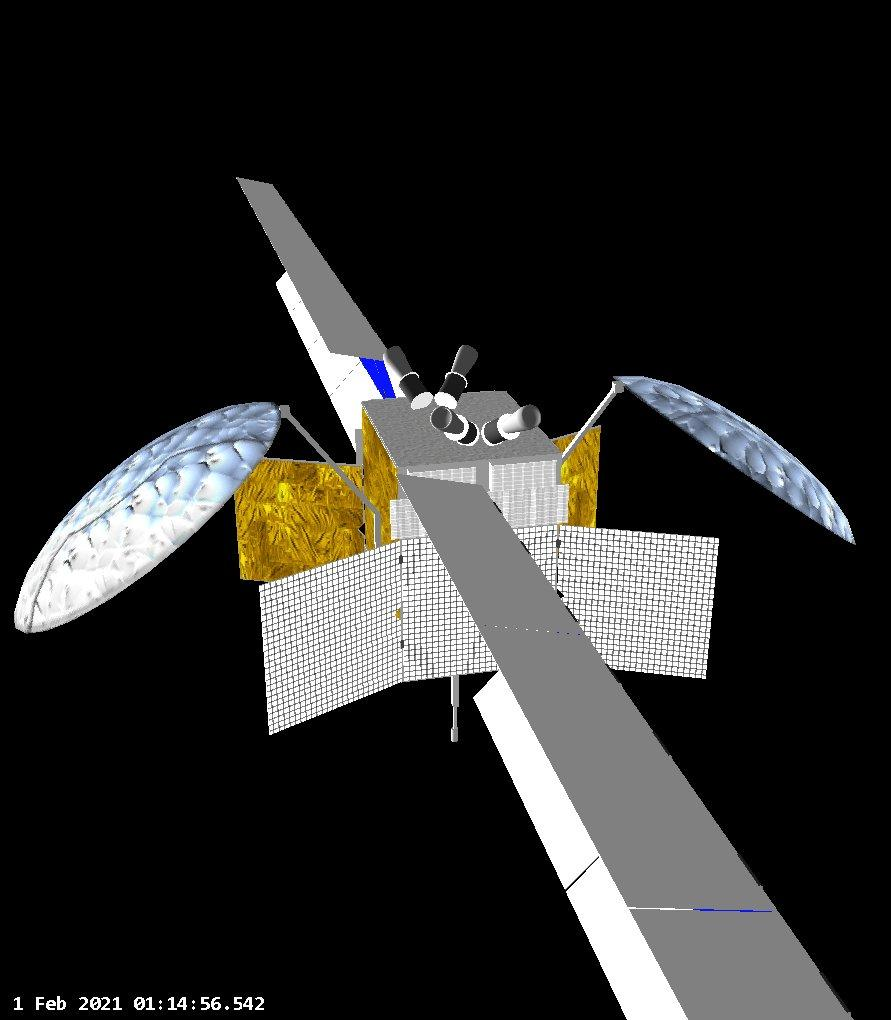antenna: (9, 397, 284, 638), (612, 368, 858, 548), (447, 674, 463, 744)
body: (362, 389, 566, 554)
solar: (392, 471, 857, 1020), (259, 523, 720, 737), (232, 174, 402, 453), (487, 483, 571, 528), (491, 460, 560, 489), (390, 498, 428, 539), (407, 465, 478, 485)
thruster: (503, 405, 542, 433), (450, 343, 479, 377), (383, 345, 412, 379), (431, 405, 464, 434)
